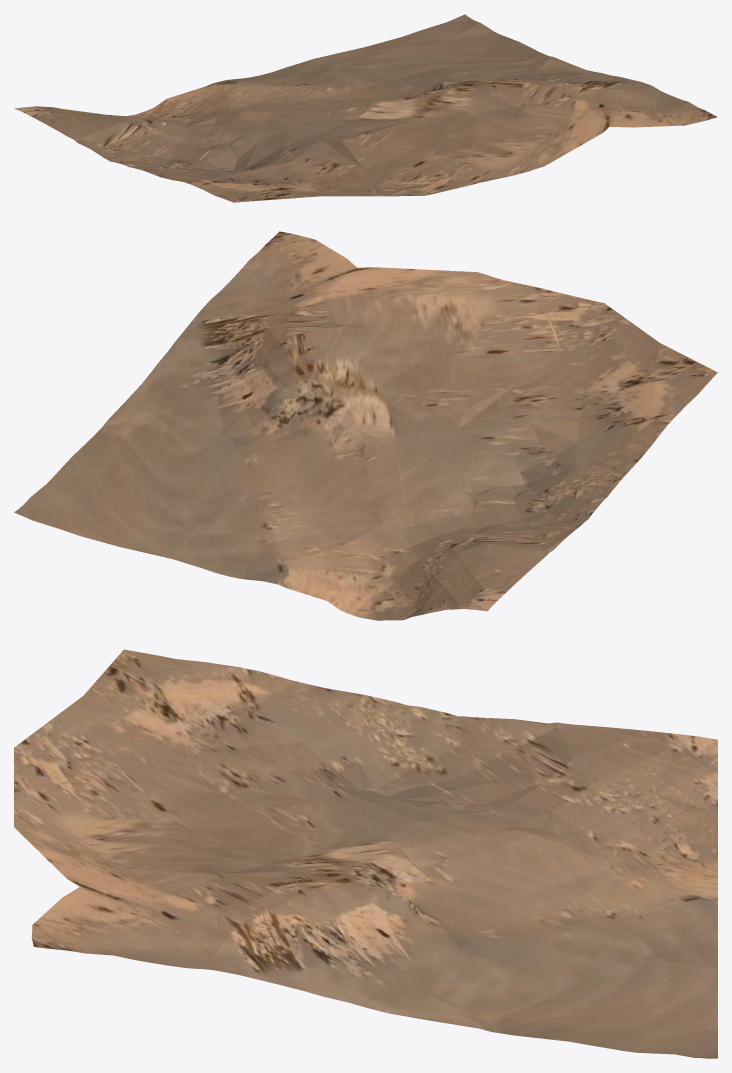
3 renders of one model, top to bottom at view 1: azimuth 30°, elevation 25°; view 2: azimuth 150°, elevation 25°; view 3: azimuth 270°, elevation 25°, orthographic. The views are drawn at different scales.
Size of the model in its own units: 1.04 by 0.2268 by 1.04.
Materials: 2 (2 with a texture image).
